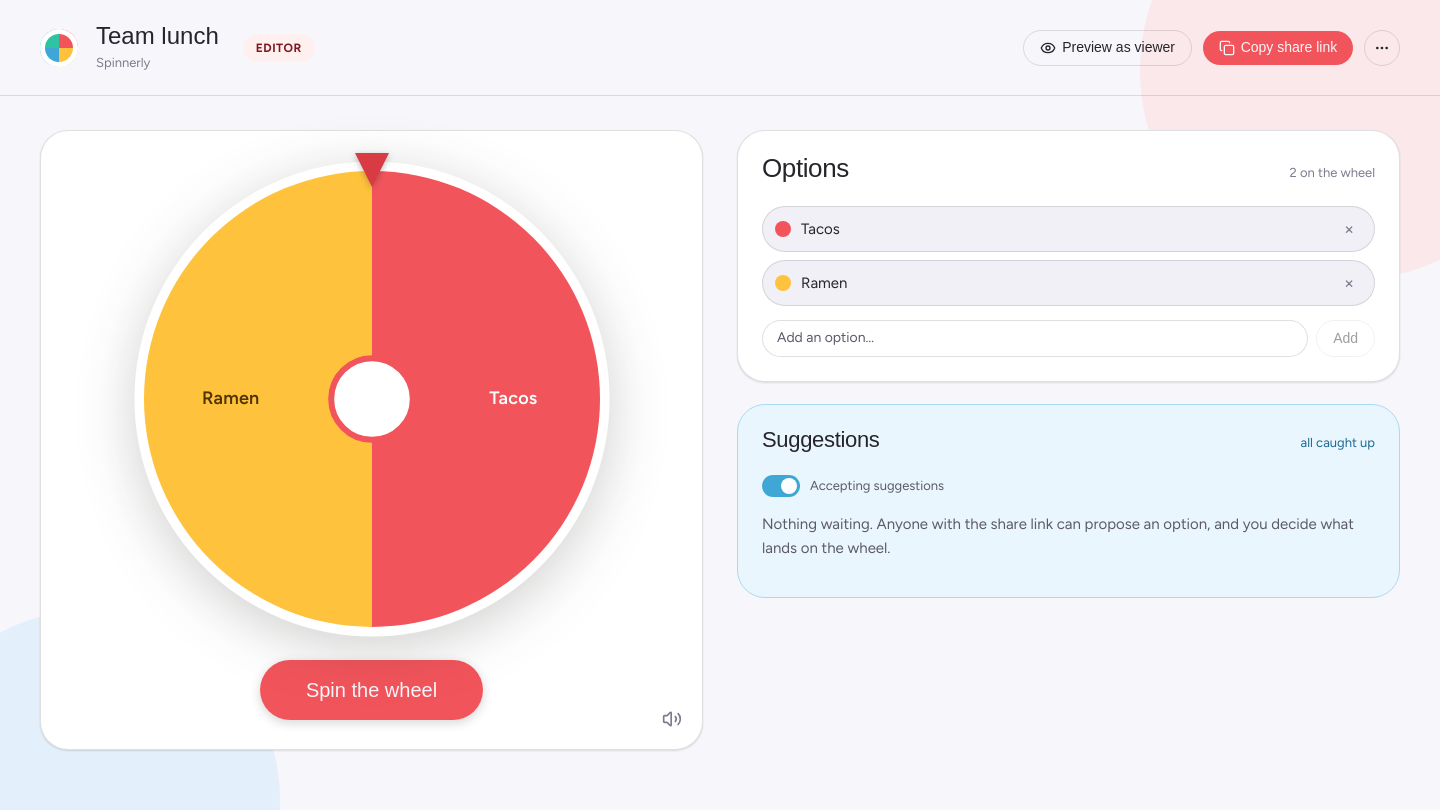
the header › sends nothing when a rename is abandoned with Escape
expect the header is shown: met, box x1=0 y1=0 x2=1439 y2=96
Step 1. Click the button with aria-label "rename wheel" → [157, 38], box x1=92 y1=22 x2=223 y2=53
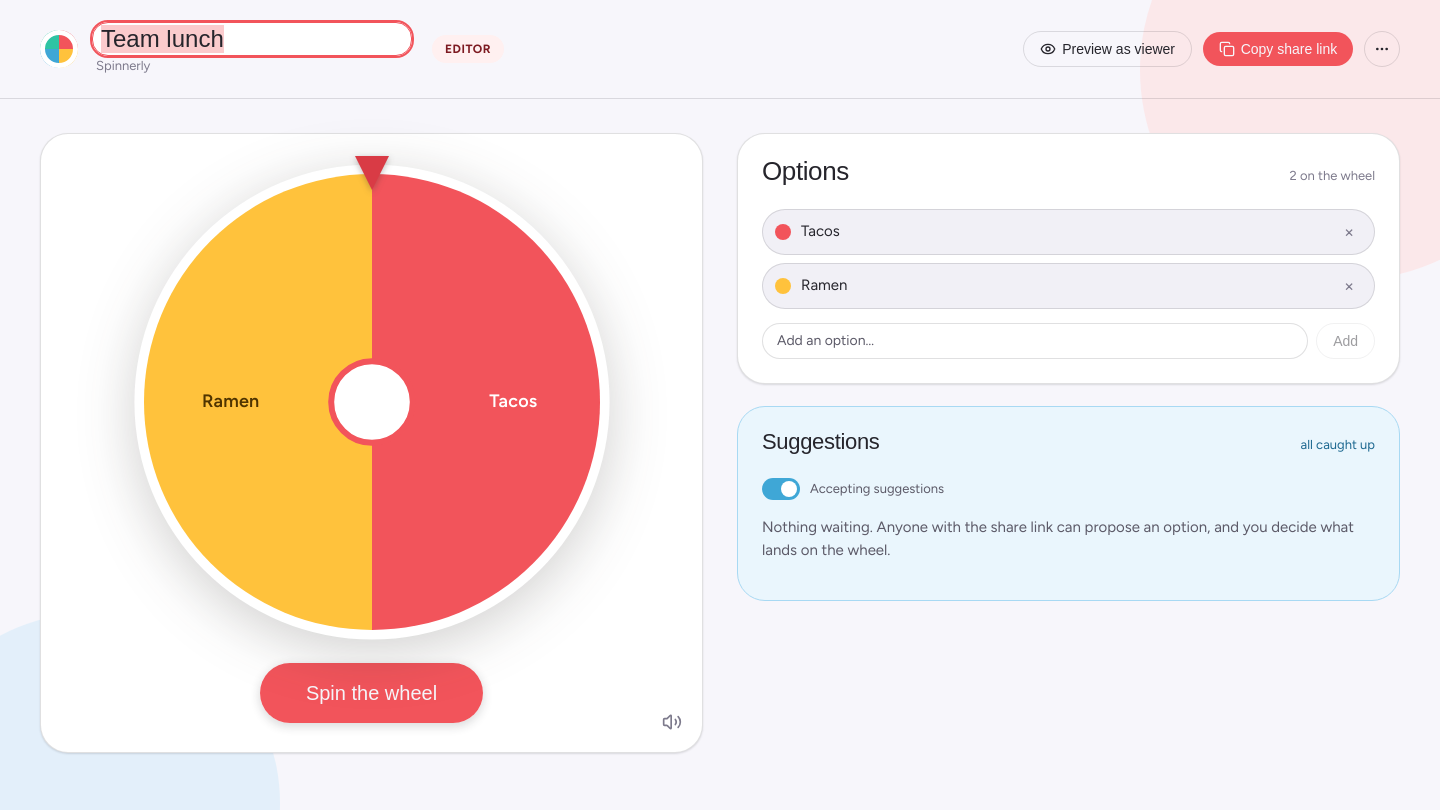
Step 2. Type keys "Team dinner{Escape}"
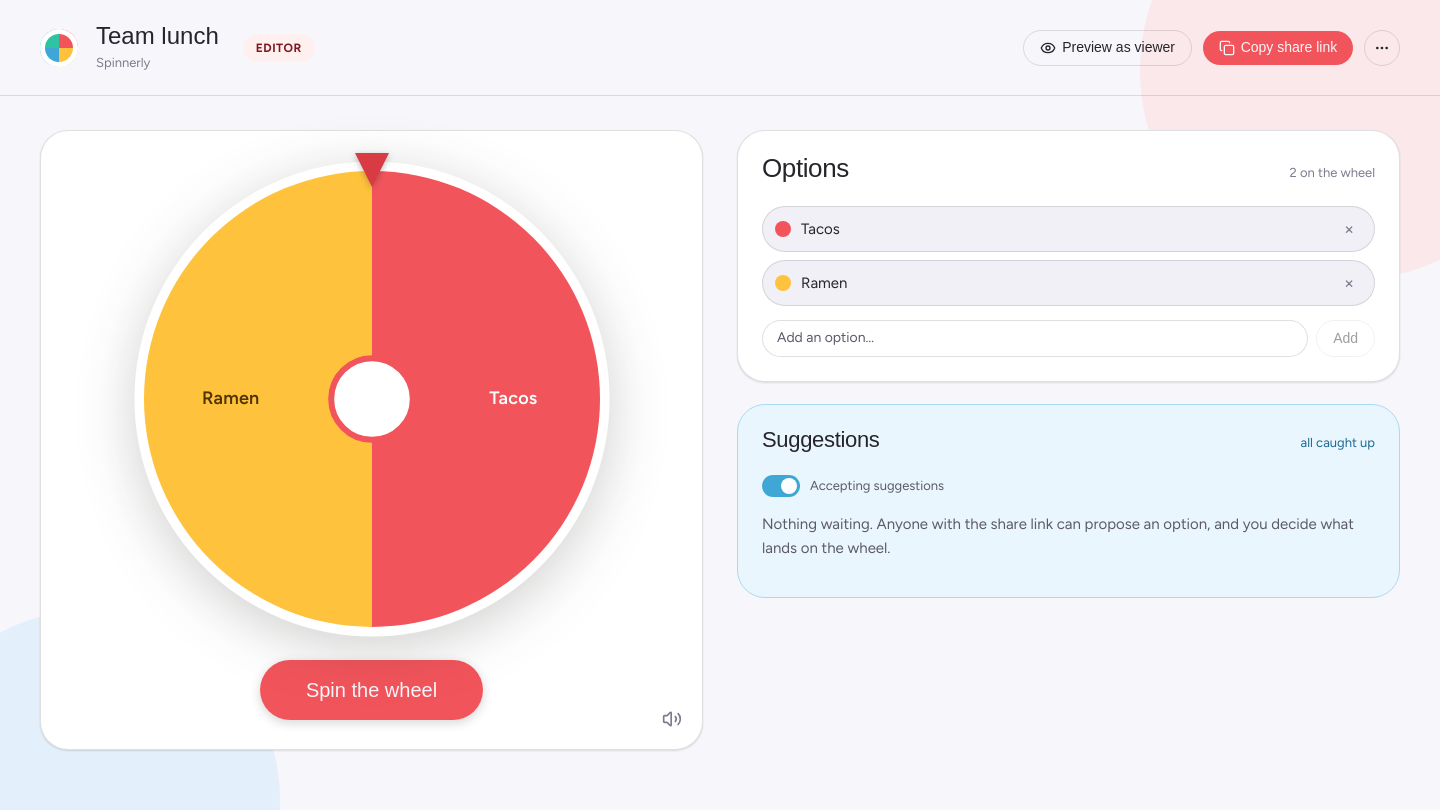
expect the text "Team lunch" is shown: met, box x1=96 y1=22 x2=219 y2=49
